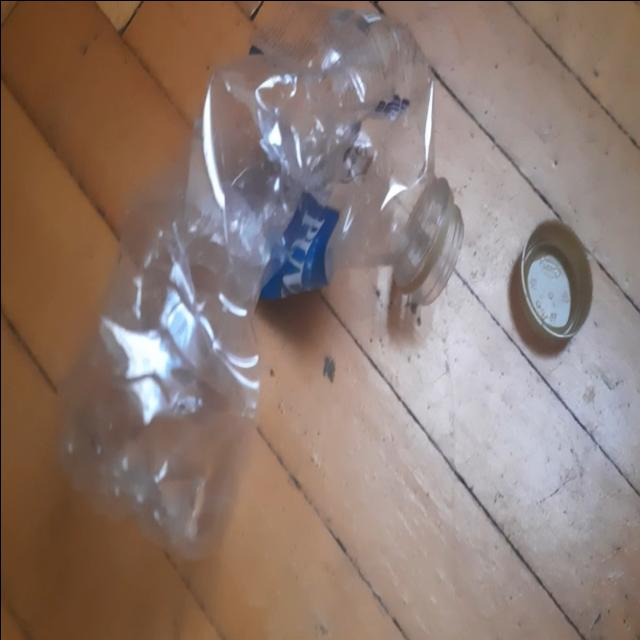Plastic: (56, 7, 453, 560)
